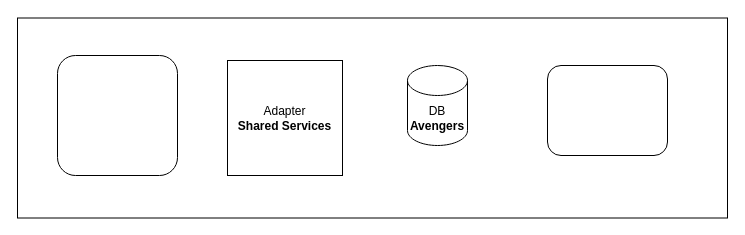
Some shapes in this 745 by 235 pixel diagram are drawn without their labels. Each missing label, with the centre of its shape:
"Admin(ColdFusion) Legacy Legends" belongs at point (607, 110).
"Post.at COP Team" belongs at point (117, 115).
